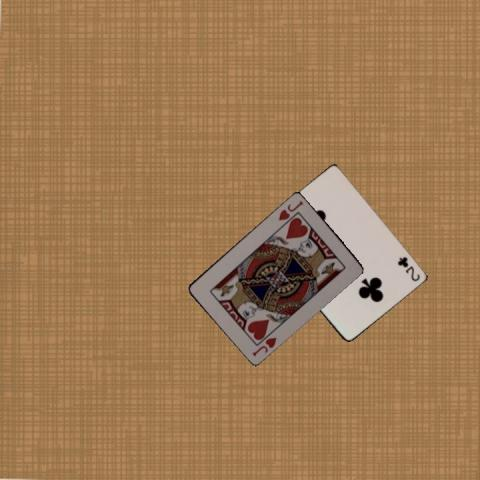2c: (394, 253, 420, 283)
Jh: (275, 197, 305, 222), (249, 334, 278, 357)
